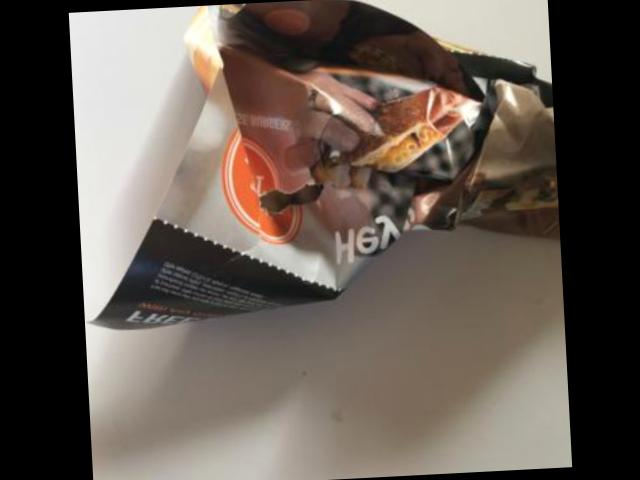cardboard paper: (91, 0, 560, 327)
